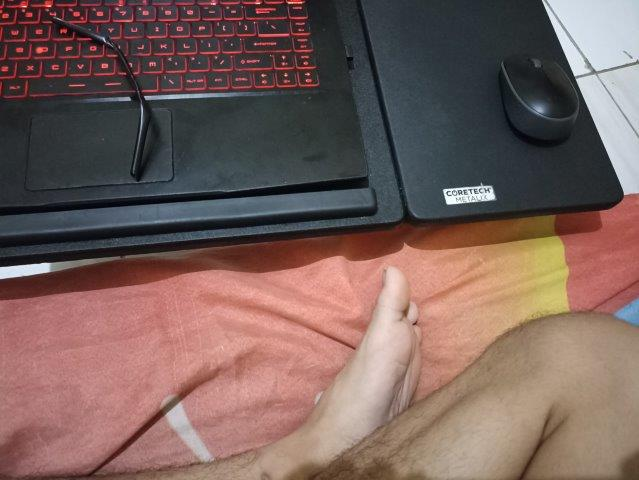sedotan: (52, 16, 147, 177)
